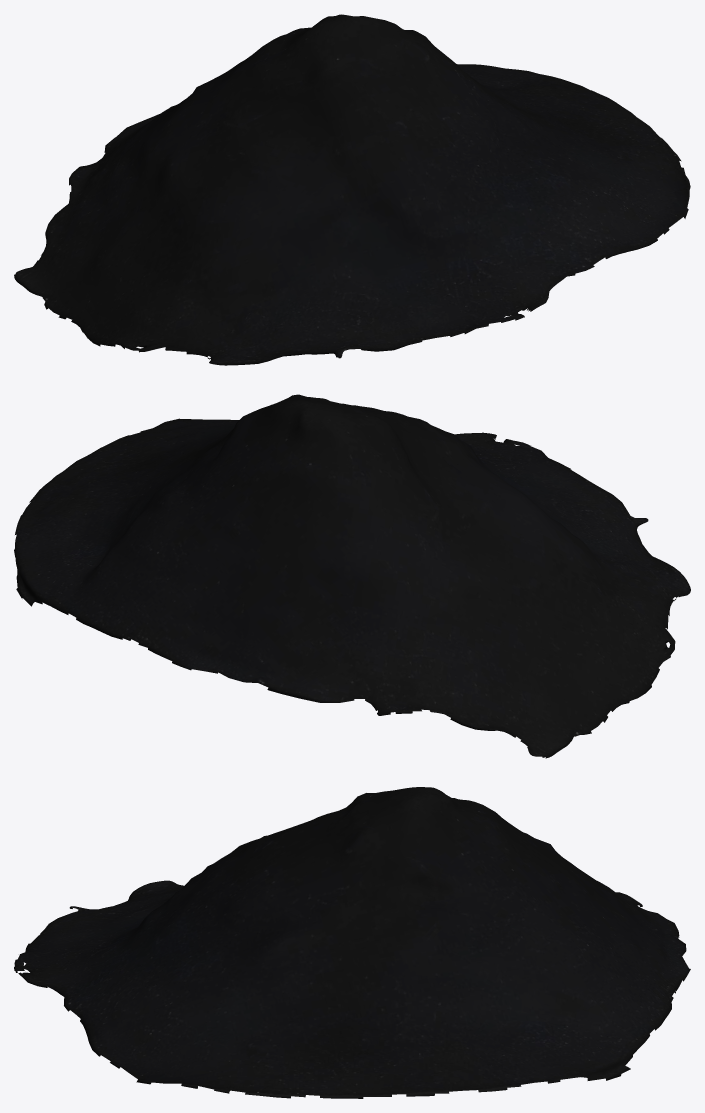
The model's file is powdergun.fbx.
3 renders of one model, top to bottom at view 1: azimuth 30°, elevation 25°; view 2: azimuth 150°, elevation 25°; view 3: azimuth 270°, elevation 25°, orthographic. The views are drawn at different scales.
Parts seen in each view (by area): view 1: PowderGun; view 2: PowderGun; view 3: PowderGun.
Boxes of the visible parts, x1,y1,x2,y2 form: PowderGun: (14,14,690,365); PowderGun: (14,394,690,758); PowderGun: (14,787,690,1098).
Bounding box in the file's own units: 27.47 × 11.06 × 26.36.
Materials: 1 (1 with a texture image).
